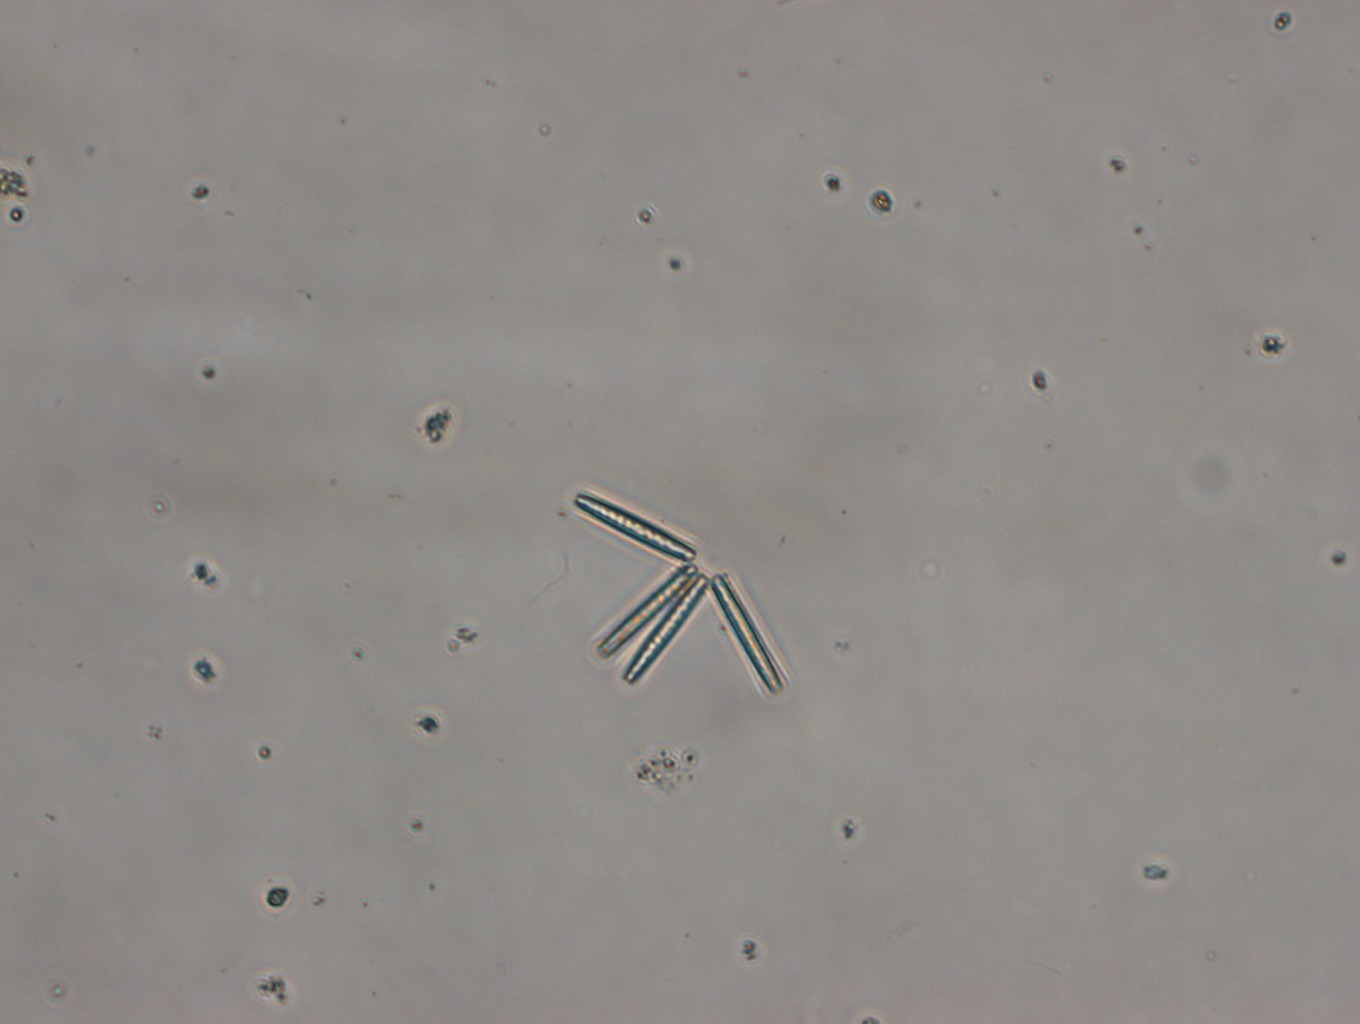thalassionema nitzschioides: (573, 490, 789, 694)
